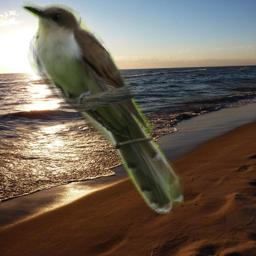Cuckoo: (20, 0, 184, 214)
